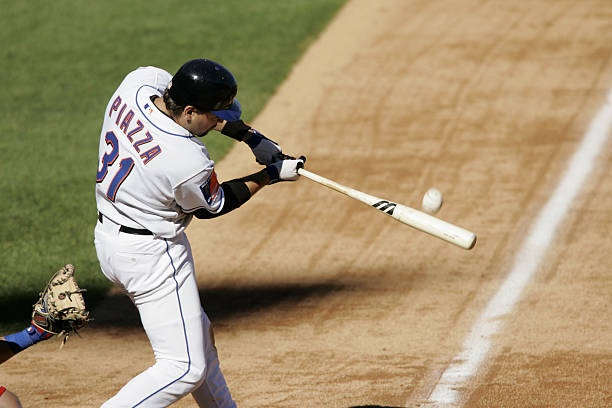bita: (298, 169, 473, 253)
